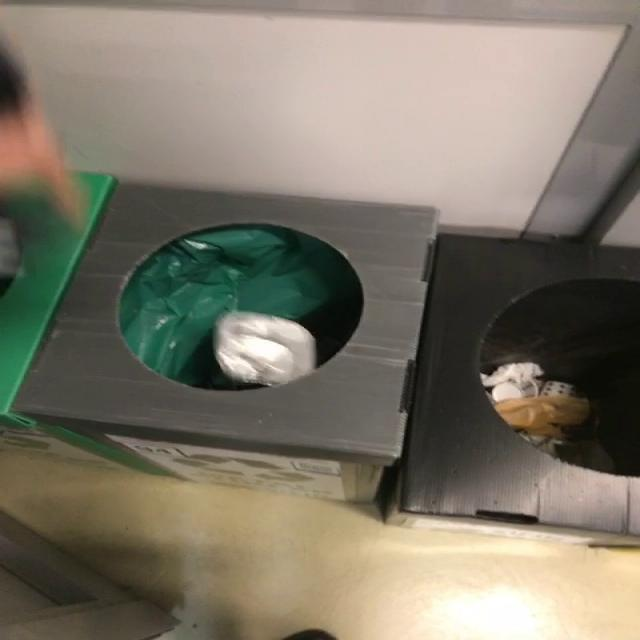Bin: (15, 186, 640, 534)
Metal: (213, 313, 315, 386)
